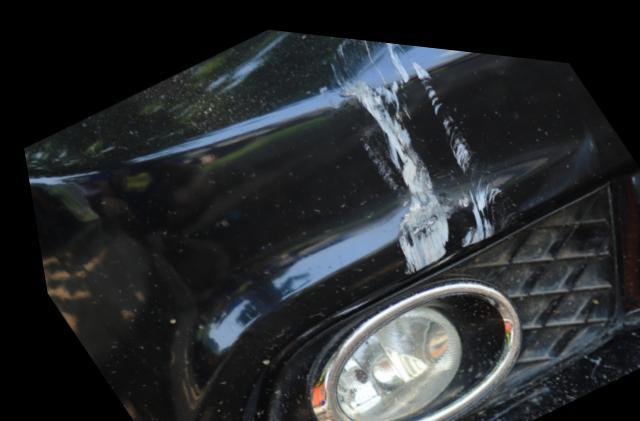scratch: (320, 29, 501, 270)
